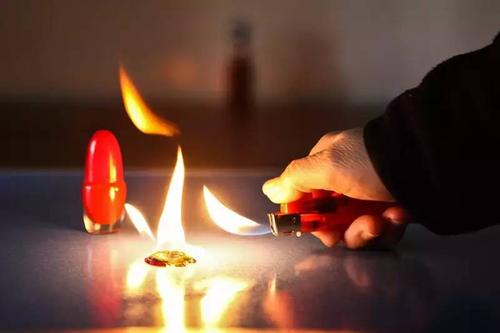fire: (129, 141, 196, 261), (116, 66, 188, 144), (197, 180, 275, 249)
